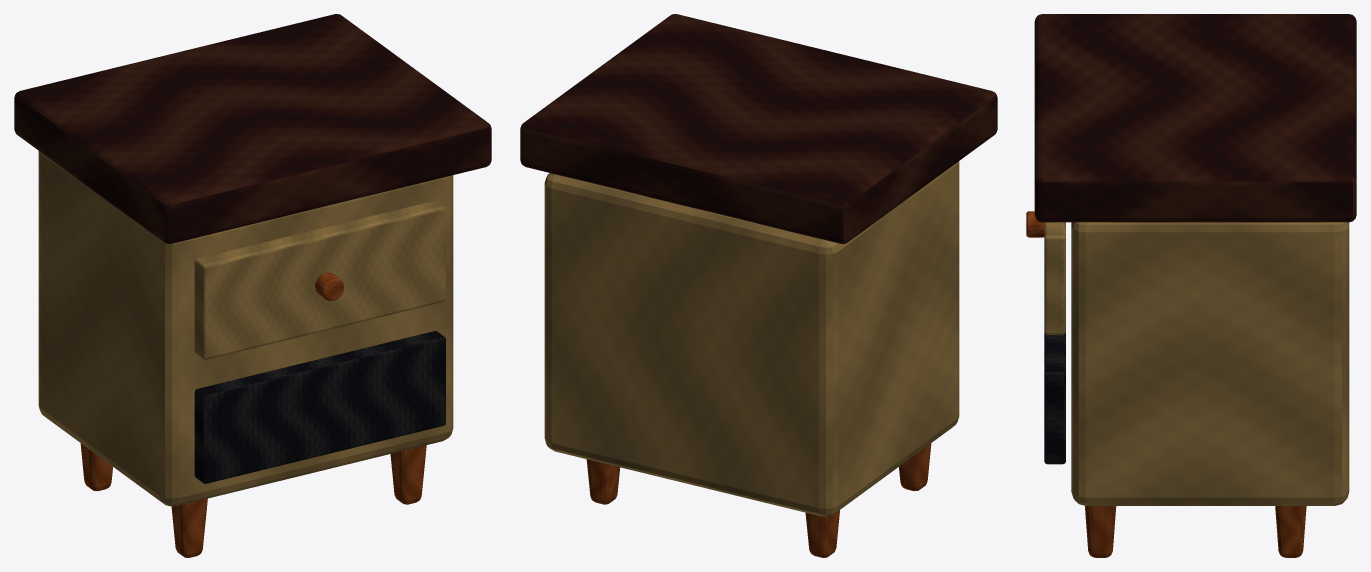
The model's file is nightstand-pbr-v1.glb.
3 views of the same model, side by side, from view 1: azimuth 30°, elevation 25°; view 2: azimuth 150°, elevation 25°; view 3: azimuth 270°, elevation 25° (orthographic). The views are drawn at different scales.
Parts seen in each view (by area): view 1: nightstand-walnut-top, nightstand-cream-body, nightstand-upper-drawer, nightstand-open-cubby, nightstand-leg, nightstand-leg.002, nightstand-leg.001, nightstand-brass-pull; view 2: nightstand-cream-body, nightstand-walnut-top, nightstand-leg.001, nightstand-leg.003, nightstand-leg; view 3: nightstand-cream-body, nightstand-walnut-top, nightstand-open-cubby, nightstand-upper-drawer, nightstand-leg.003, nightstand-leg.002, nightstand-brass-pull.
Part boxes in pixels (left/top/right/bottom): nightstand-walnut-top: left=14, top=14, right=491, bottom=243; nightstand-cream-body: left=38, top=151, right=453, bottom=506; nightstand-upper-drawer: left=194, top=200, right=445, bottom=359; nightstand-open-cubby: left=194, top=331, right=445, bottom=483; nightstand-leg: left=171, top=498, right=207, bottom=557; nightstand-leg.002: left=390, top=445, right=426, bottom=504; nightstand-leg.001: left=80, top=443, right=112, bottom=491; nightstand-brass-pull: left=315, top=272, right=343, bottom=300; nightstand-cream-body: left=544, top=161, right=959, bottom=516; nightstand-walnut-top: left=520, top=14, right=997, bottom=243; nightstand-leg.001: left=805, top=510, right=839, bottom=557; nightstand-leg.003: left=586, top=459, right=620, bottom=504; nightstand-leg: left=899, top=443, right=931, bottom=491; nightstand-cream-body: left=1071, top=222, right=1349, bottom=505; nightstand-walnut-top: left=1034, top=14, right=1356, bottom=222; nightstand-open-cubby: left=1044, top=333, right=1065, bottom=464; nightstand-upper-drawer: left=1044, top=222, right=1065, bottom=334; nightstand-leg.003: left=1275, top=506, right=1306, bottom=557; nightstand-leg.002: left=1085, top=506, right=1116, bottom=557; nightstand-brass-pull: left=1026, top=211, right=1044, bottom=237.
Size of the model in its own units: 0.54 by 0.61 by 0.4515.
4 materials, 4 textured.
